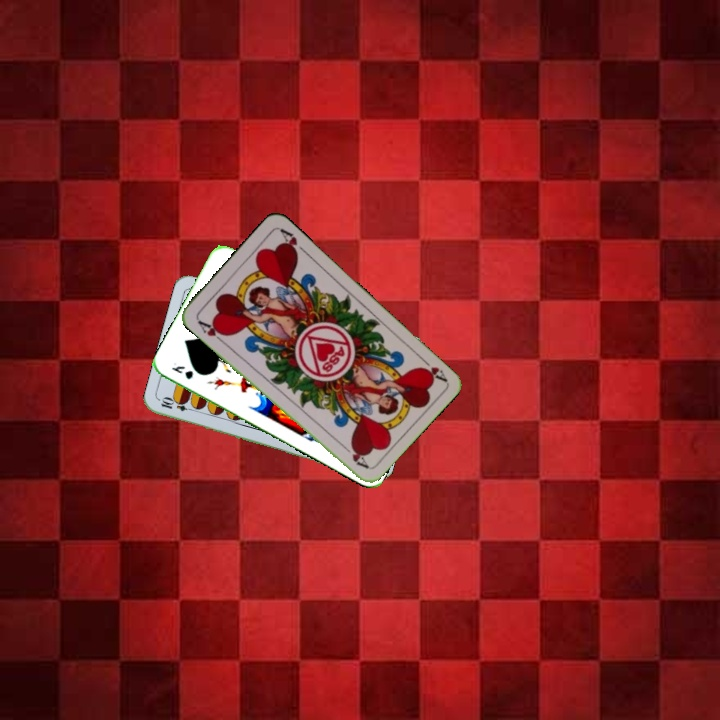E10: (157, 395, 197, 414)
GK: (168, 358, 196, 382)
HA: (415, 352, 449, 384), (194, 316, 229, 346)
